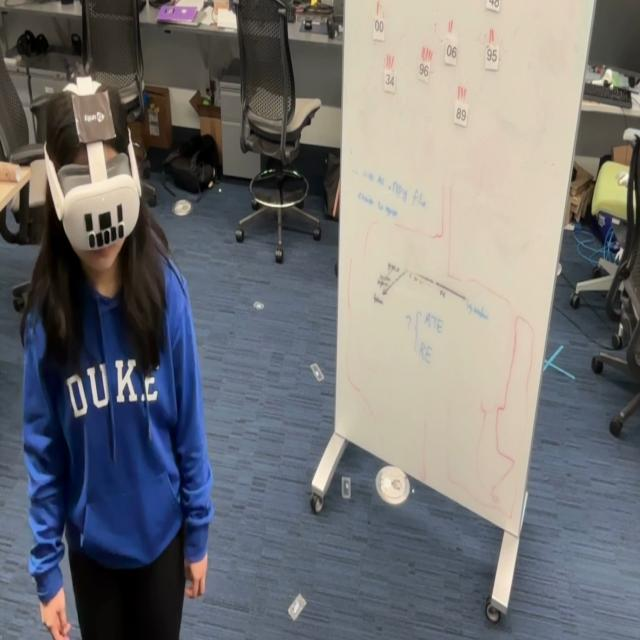Headset: (43, 76, 142, 255)
UnityLogo: (68, 90, 119, 151)
